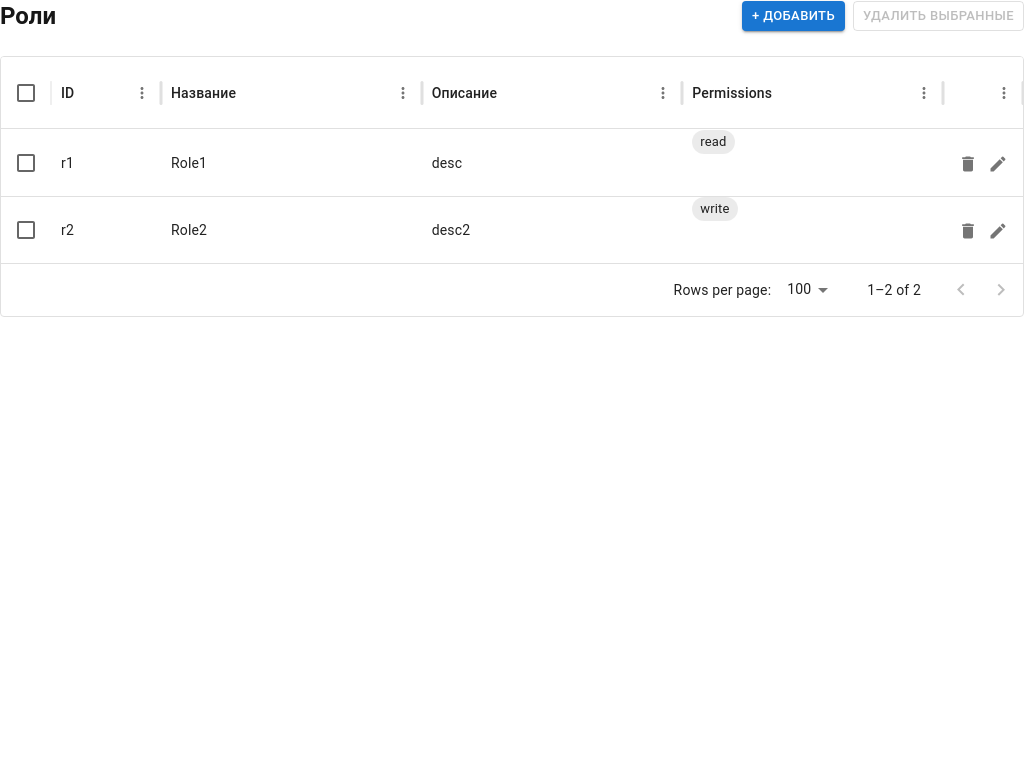
AdminRolesPage › renders roles and handles delete
Check: the text "Role1" is shown, box [171,155,207,171]
Click first delete button
Click the button named "delete" in the row of "r1" at point(968, 164), box [953,149,983,179]
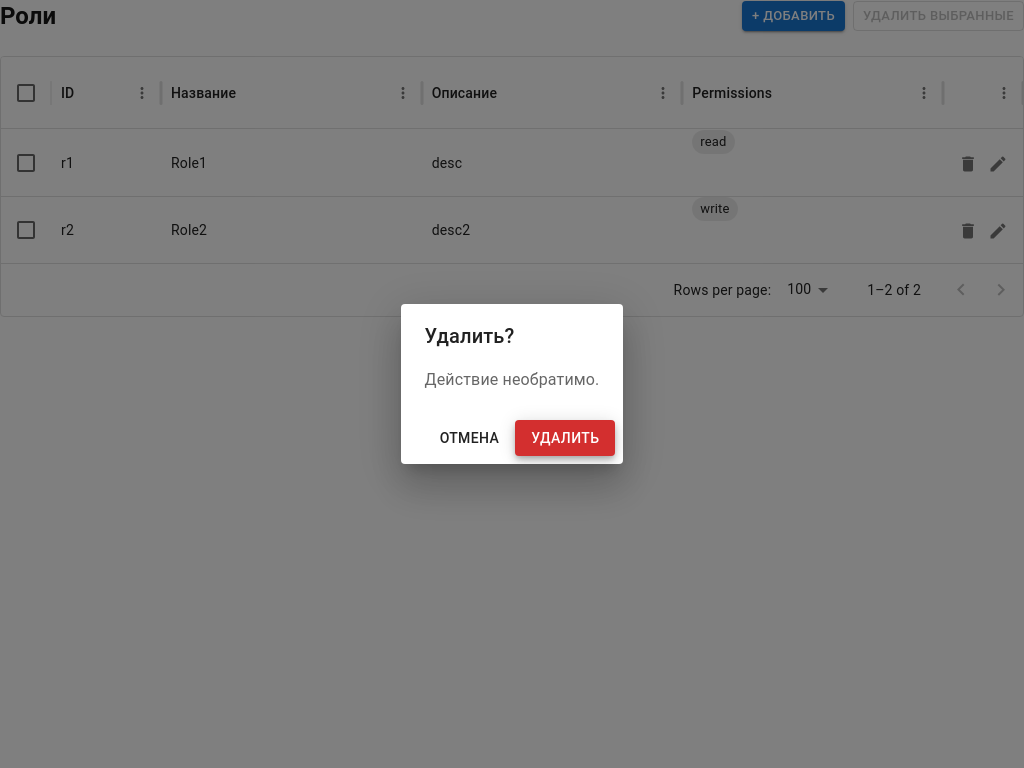
confirm in dialog
Click the button "Удалить" at point(565, 438), box [515,420,616,456]
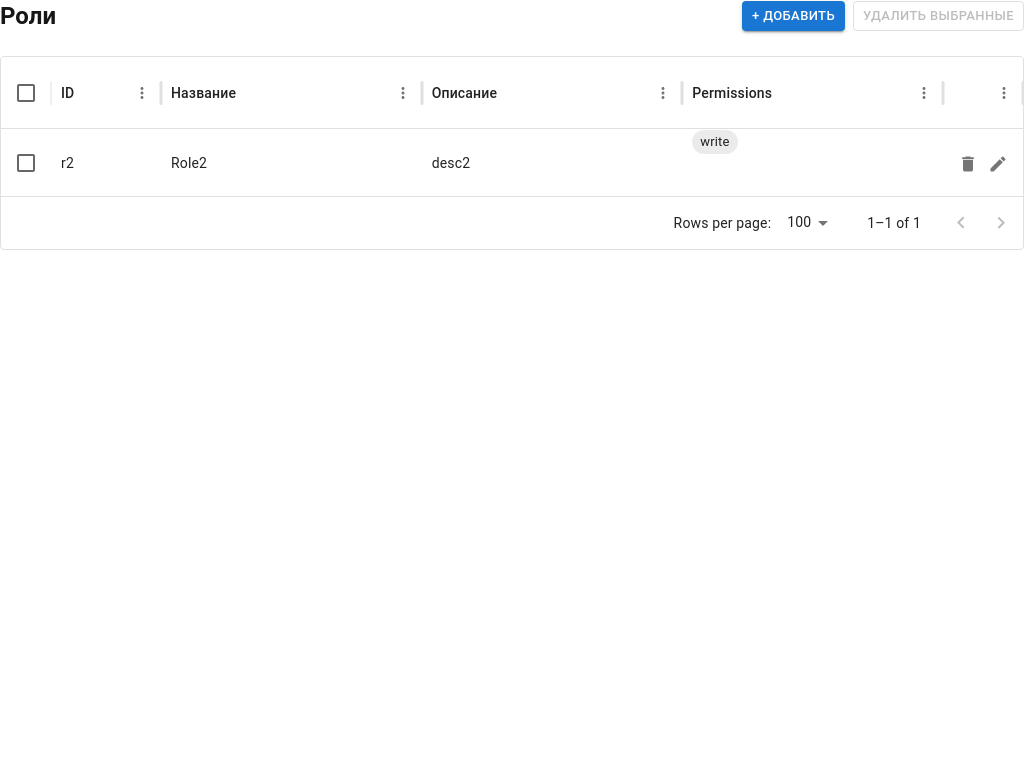
Check: the text "Role1" is gone
